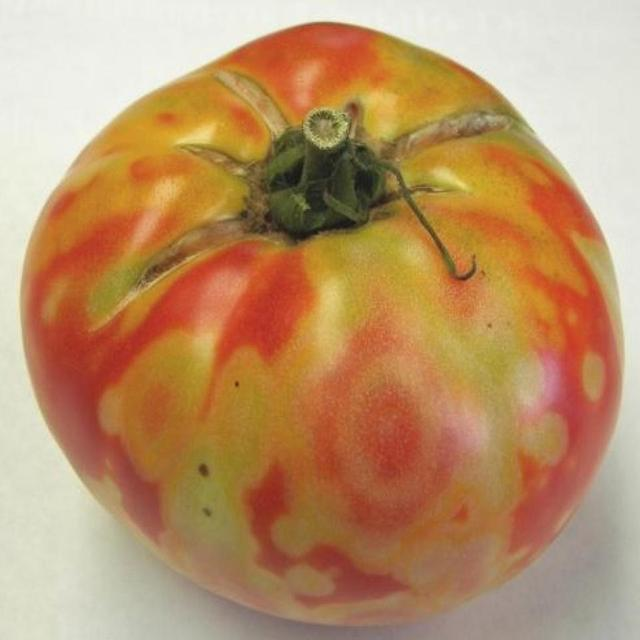Spotted wilt Virus Fruit: (51, 25, 102, 129)
